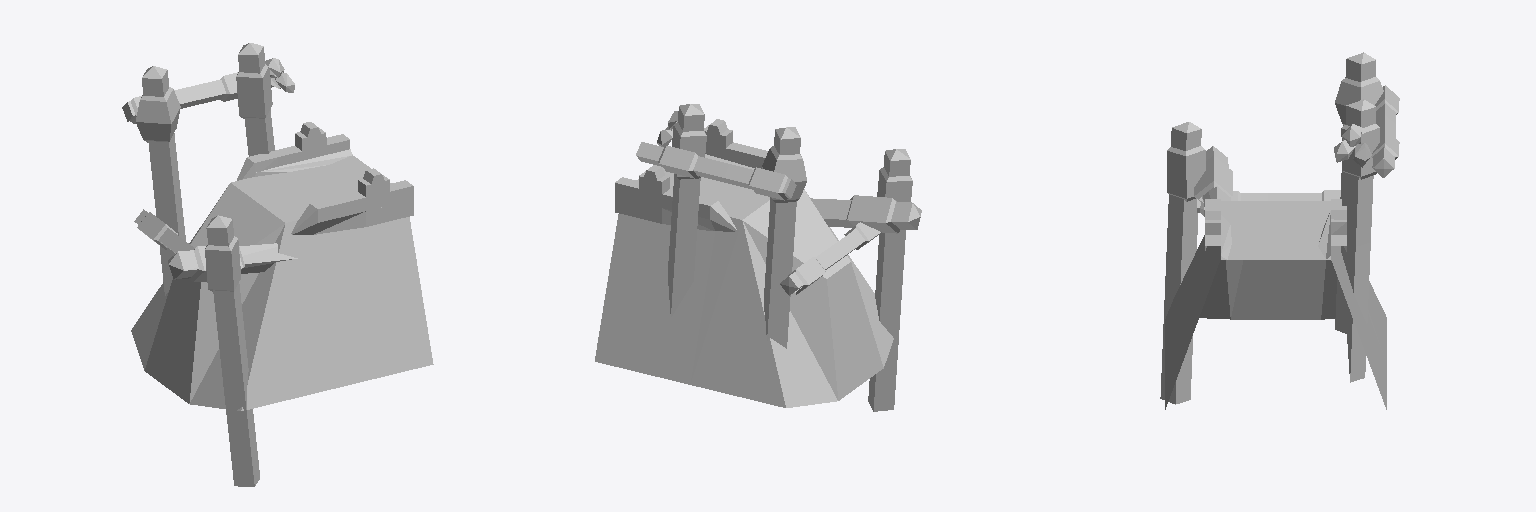
Rendered from templeToPlankCapAHorz_prefab.obj.
3 renders of one model, left to right at view 1: azimuth 30°, elevation 25°; view 2: azimuth 150°, elevation 25°; view 3: azimuth 270°, elevation 25°, orthographic.
Visible parts, largest first — view 1: Object72-Pivot; view 2: Object72-Pivot; view 3: Object72-Pivot.
Part boxes in pixels (bbox=[...]): Object72-Pivot: bbox=[122, 43, 433, 486]; Object72-Pivot: bbox=[595, 104, 921, 411]; Object72-Pivot: bbox=[1160, 52, 1399, 409].
Bounding box in the file's own units: 50.1 × 69.39 × 43.19.